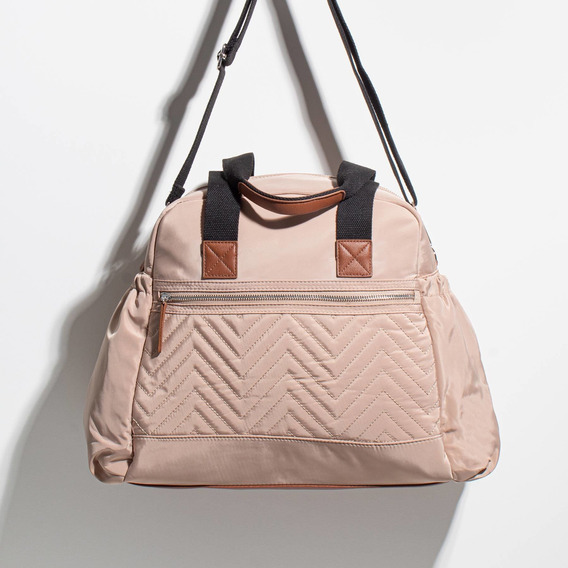cartera: (85, 1, 501, 492)
